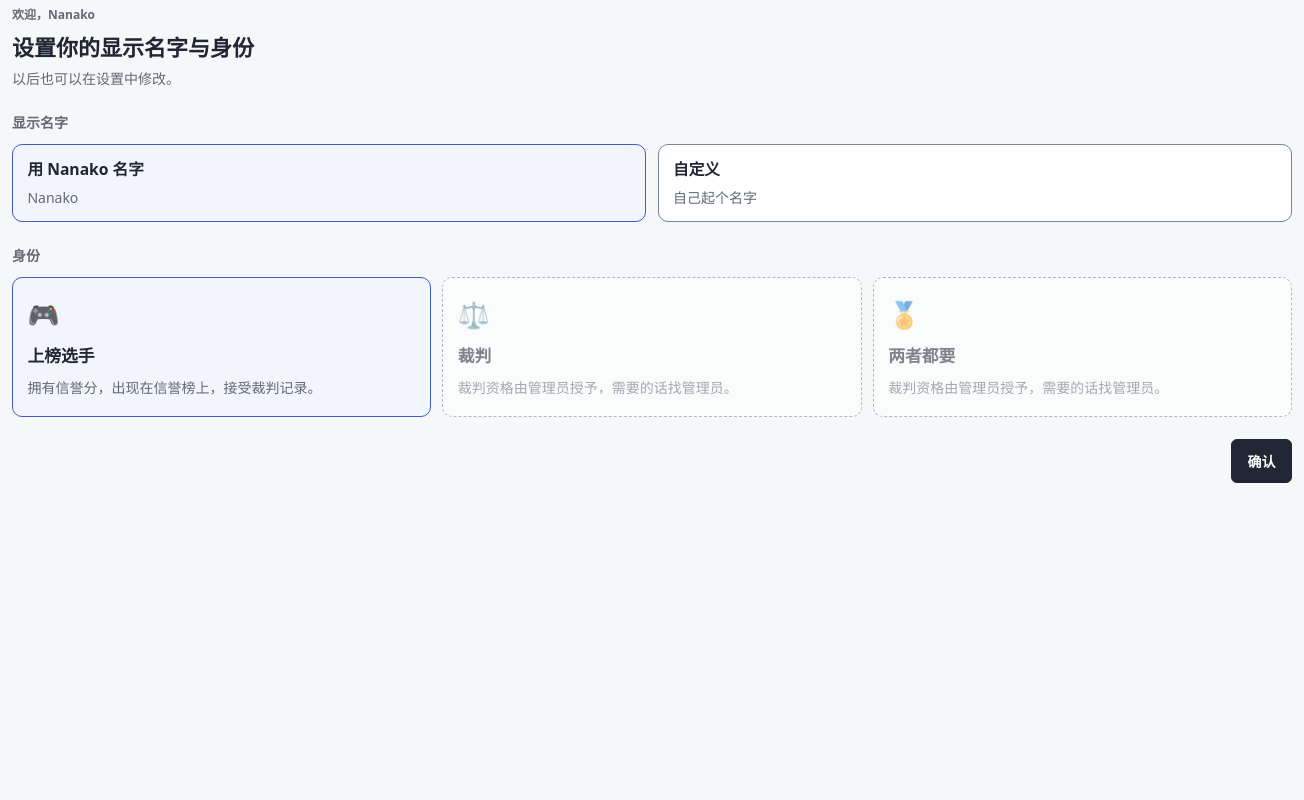
Test case: IdentityForm names and failures › requires a nonempty custom name and enforces the existing input length
The image size is (1304, 800).
Click the radio button labelled "自定义 自己起个名字".
click(696, 169)  # box x1=658 y1=144 x2=1292 y2=222
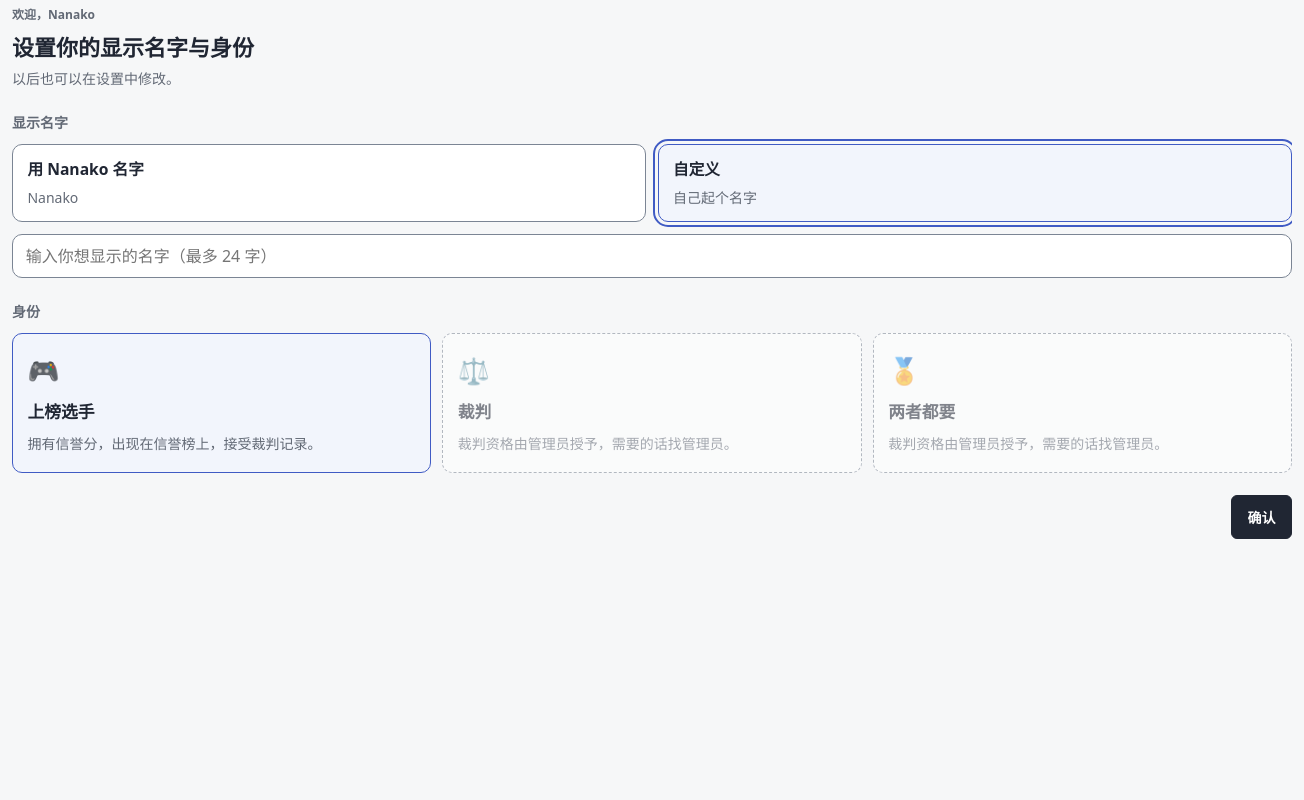
Click the button "确认".
click(1262, 518)  # box x1=1231 y1=496 x2=1292 y2=540
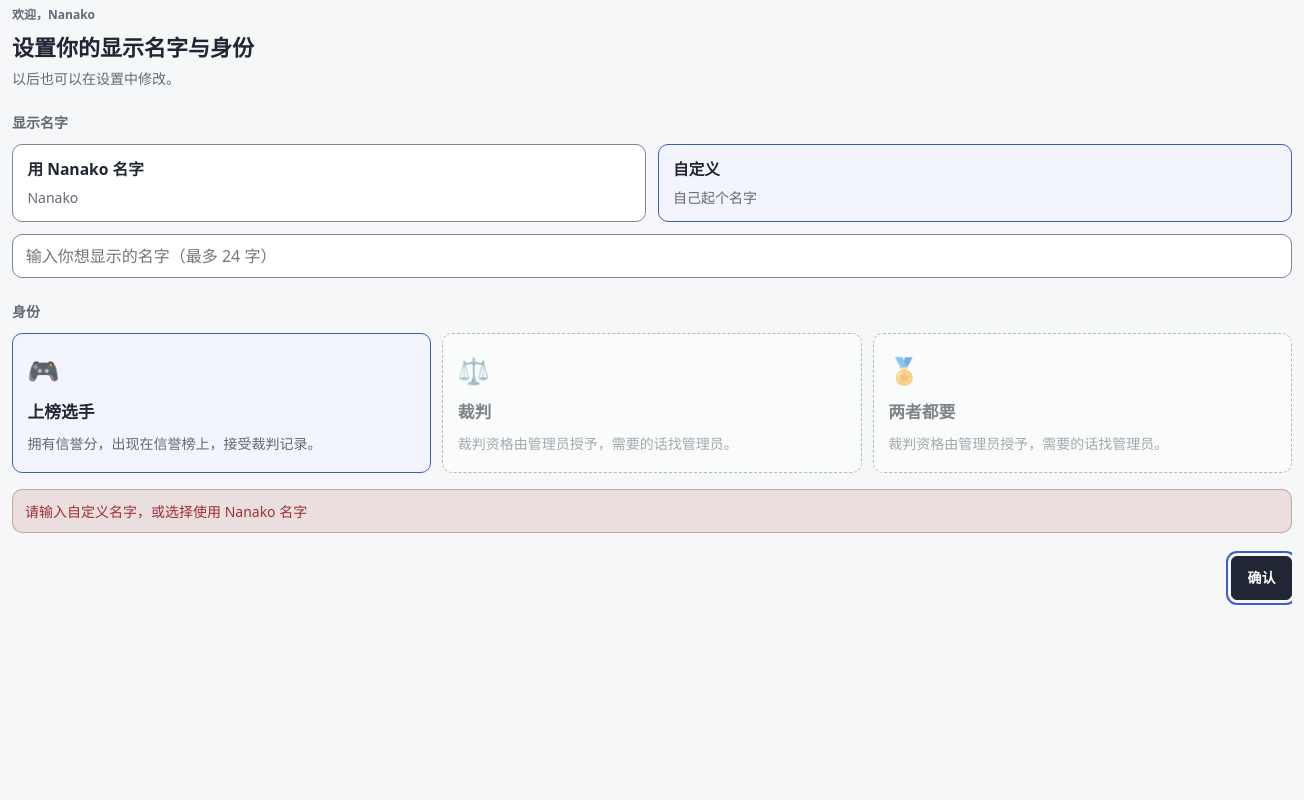
Result: the message reads "请输入自定义名字，或选择使用 Nanako 名字" at x1=25 y1=502 x2=307 y2=521
